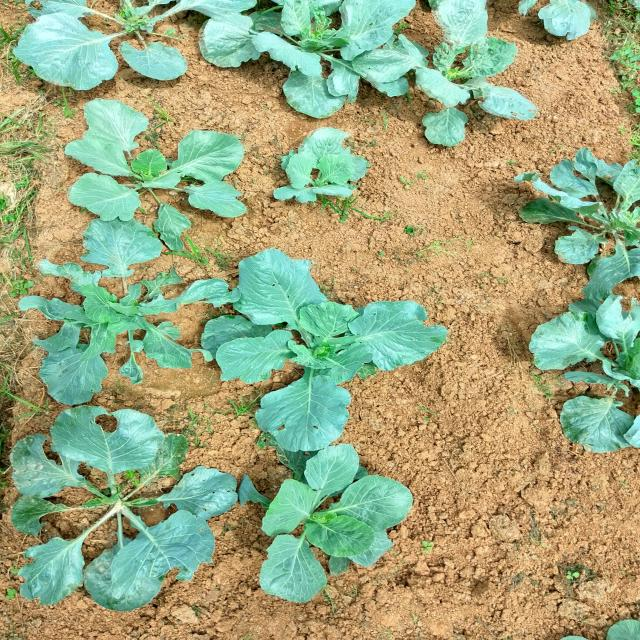Cabbage: (204, 248, 473, 453), (0, 250, 280, 428), (26, 417, 245, 599), (52, 104, 266, 264), (247, 472, 448, 608), (12, 0, 244, 103), (228, 0, 419, 121), (396, 0, 539, 157), (513, 294, 640, 466), (521, 143, 640, 302), (267, 108, 373, 215)
